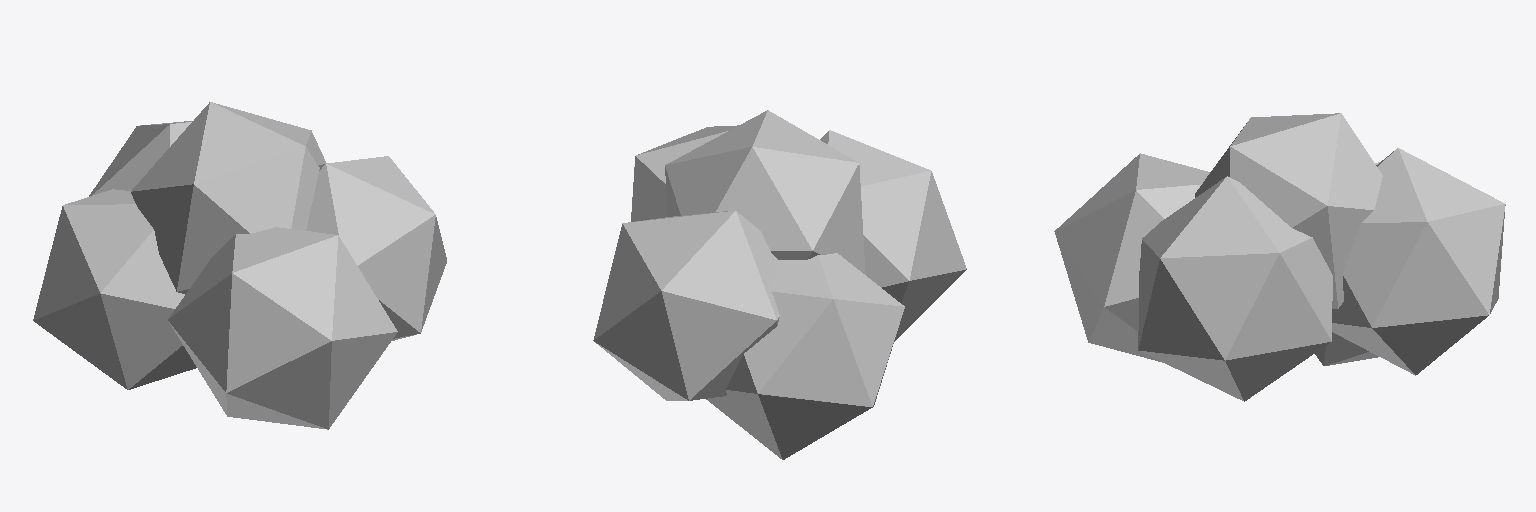
Rendered from cloud.obj.
3 views of the same model, side by side, from view 1: azimuth 30°, elevation 25°; view 2: azimuth 150°, elevation 25°; view 3: azimuth 270°, elevation 25° (orthographic).
Visible parts, largest first — view 1: Icosphere.002, Icosphere, Icosphere.004, Icosphere.001, Icosphere.003; view 2: Icosphere.003, Icosphere.004, Icosphere, Icosphere.002, Icosphere.001; view 3: Icosphere.001, Icosphere.003, Icosphere, Icosphere.002, Icosphere.004.
Boxes of the visible parts, <box> form: Icosphere.002: <box>168,227,397,429</box>; Icosphere: <box>131,102,326,294</box>; Icosphere.004: <box>33,189,196,389</box>; Icosphere.001: <box>306,156,446,340</box>; Icosphere.003: <box>89,121,192,196</box>; Icosphere.003: <box>593,211,779,400</box>; Icosphere.004: <box>706,253,904,459</box>; Icosphere: <box>665,110,865,274</box>; Icosphere.002: <box>820,130,966,341</box>; Icosphere.001: <box>631,125,738,221</box>; Icosphere.001: <box>1138,176,1332,401</box>; Icosphere.003: <box>1332,148,1505,375</box>; Icosphere: <box>1195,113,1382,308</box>; Icosphere.002: <box>1054,153,1209,362</box>; Icosphere.004: <box>1315,162,1379,365</box>.
Size of the model in its own units: 3.28 by 2.59 by 3.91.